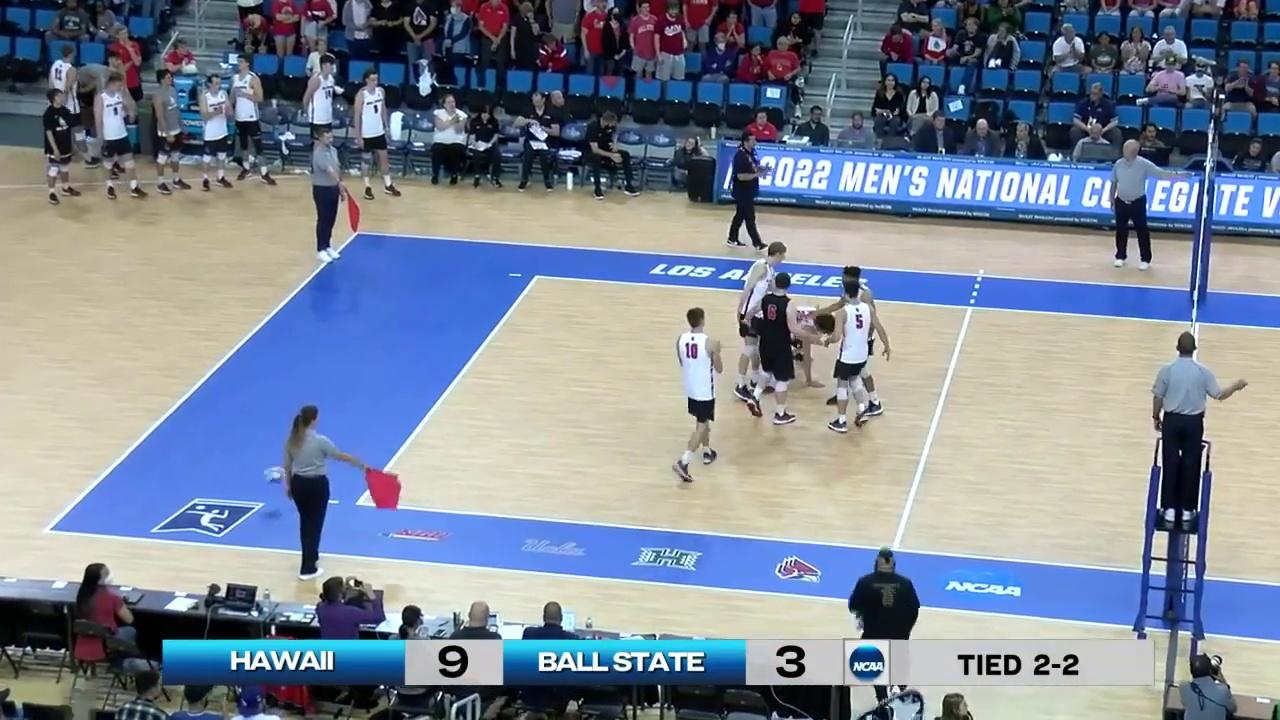player: (826, 266, 886, 416), (671, 307, 723, 480), (745, 273, 799, 429), (733, 243, 786, 398), (827, 282, 875, 434), (751, 305, 835, 387)
refree: (1149, 334, 1231, 524), (276, 406, 366, 577), (304, 128, 356, 263), (1111, 140, 1159, 271)
